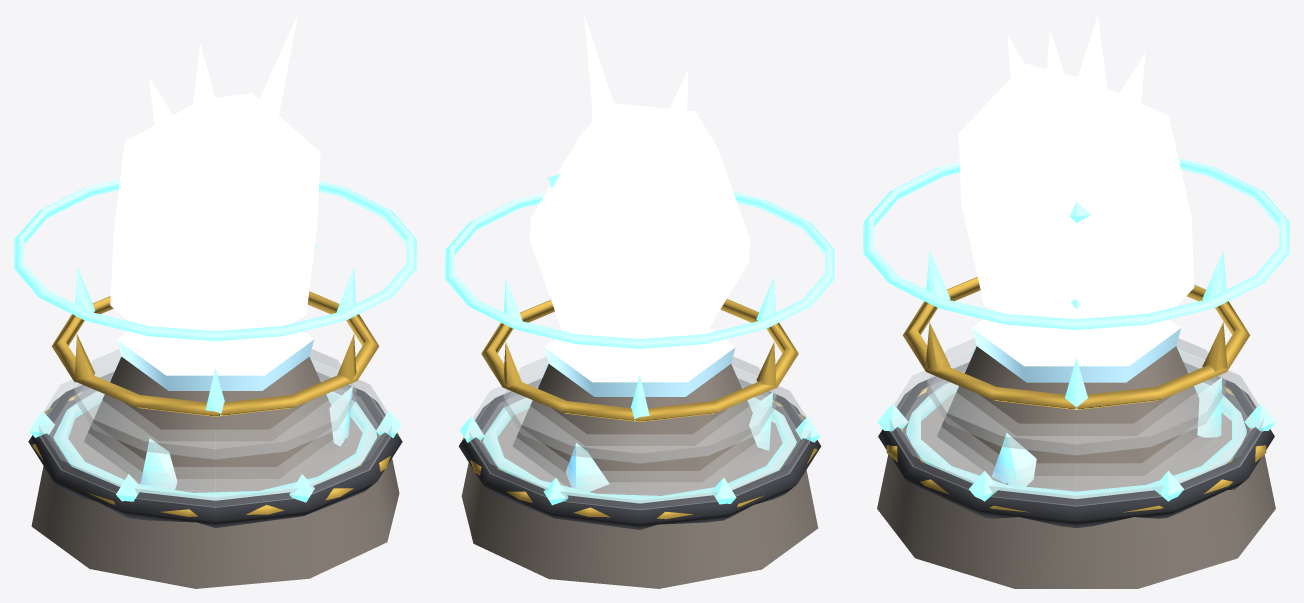
Rendered from tower_freeze_absoluteZero_ultimate.glb.
The picture shows the model from 3 angles, left to right: view 1: azimuth 30°, elevation 25°; view 2: azimuth 150°, elevation 25°; view 3: azimuth 270°, elevation 25°; orthographic projection. The views are drawn at different scales.
Visible parts, largest first — view 1: glacier, base, pedestal, frost_fog, base_rim, frost_fog_b, ult_halo, pedestal_frost, ult_crown_band, aura_ring, glacier_spike_0, side_crystal_1 (+6 smaller); view 2: glacier, base, pedestal, frost_fog, base_rim, frost_fog_b, ult_halo, ult_crown_band, pedestal_frost, aura_ring, side_crystal_2, glacier_spike_0 (+4 smaller); view 3: glacier, base, pedestal, frost_fog, base_rim, frost_fog_b, ult_halo, pedestal_frost, ult_crown_band, aura_ring, glacier_spike_0, side_crystal_0 (+10 smaller).
Part boxes in pixels (x1,y1,x2,y2): glacier: [110, 93, 320, 360]; base: [31, 403, 399, 588]; pedestal: [84, 356, 346, 489]; frost_fog: [39, 360, 391, 507]; base_rim: [28, 372, 402, 527]; frost_fog_b: [74, 349, 356, 459]; ult_halo: [14, 179, 416, 341]; pedestal_frost: [117, 323, 313, 390]; ult_crown_band: [51, 291, 379, 416]; aura_ring: [53, 391, 377, 500]; glacier_spike_0: [257, 15, 297, 124]; side_crystal_1: [140, 438, 177, 489]; glacier: [529, 103, 750, 365]; base: [461, 409, 818, 588]; pedestal: [512, 364, 763, 492]; frost_fog: [469, 367, 810, 510]; base_rim: [458, 378, 821, 529]; frost_fog_b: [503, 356, 776, 463]; ult_halo: [445, 192, 834, 348]; ult_crown_band: [481, 299, 798, 421]; pedestal_frost: [544, 328, 735, 396]; aura_ring: [483, 397, 796, 503]; side_crystal_2: [566, 443, 609, 491]; glacier_spike_0: [584, 15, 613, 121]; glacier: [958, 63, 1194, 352]; base: [877, 393, 1275, 588]; pedestal: [937, 346, 1214, 487]; frost_fog: [889, 350, 1263, 506]; base_rim: [878, 362, 1274, 527]; frost_fog_b: [927, 338, 1225, 455]; ult_halo: [863, 158, 1289, 329]; pedestal_frost: [972, 310, 1180, 382]; ult_crown_band: [903, 277, 1249, 409]; aura_ring: [906, 382, 1246, 498]; glacier_spike_0: [1043, 29, 1076, 133]; side_crystal_0: [992, 433, 1036, 486].
Size of the model in its own units: 0.434 by 0.5724 by 0.4274.
